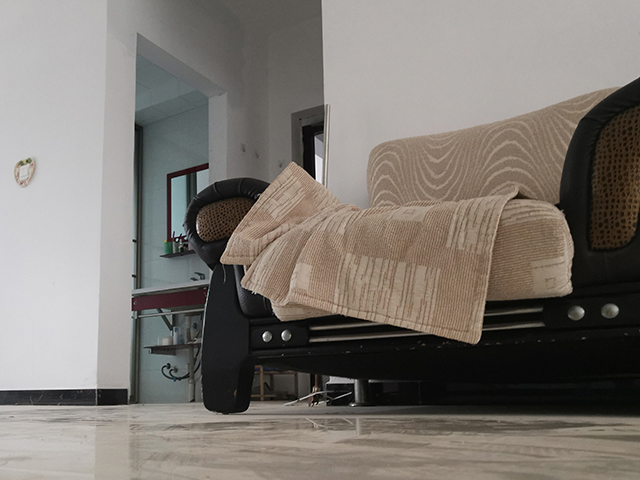sofa: (179, 77, 639, 417)
